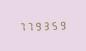five: (50, 19, 57, 30)
nine: (34, 20, 41, 31), (58, 19, 65, 30)
seven: (17, 20, 24, 31), (25, 20, 32, 31)
three: (42, 20, 49, 30)
